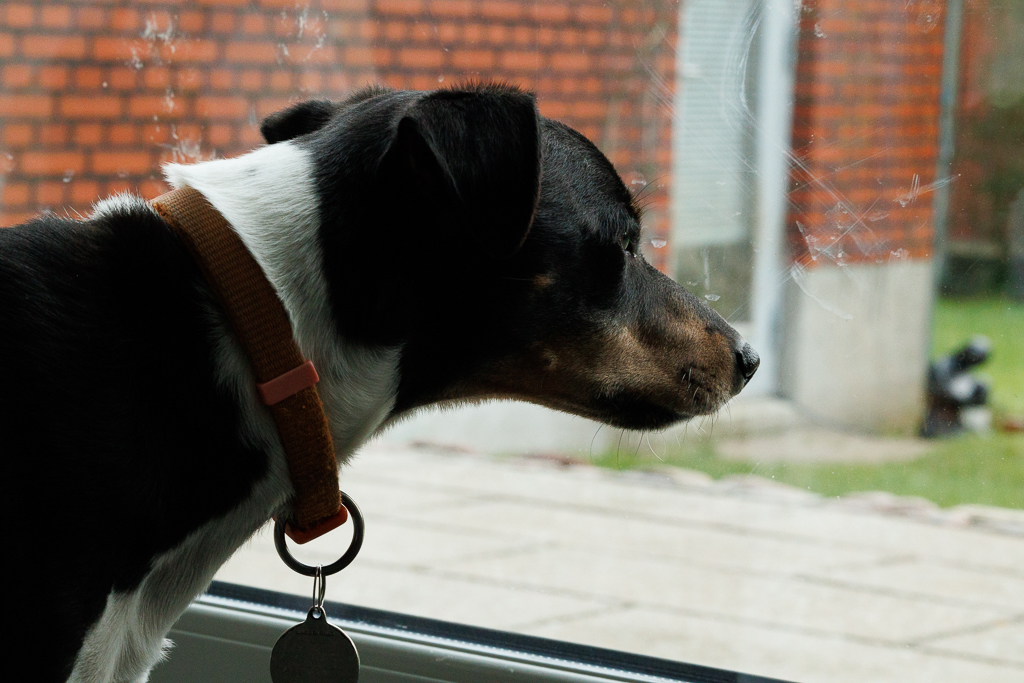Dog: (0, 74, 765, 683)
Humanoid: (905, 327, 1004, 449)
